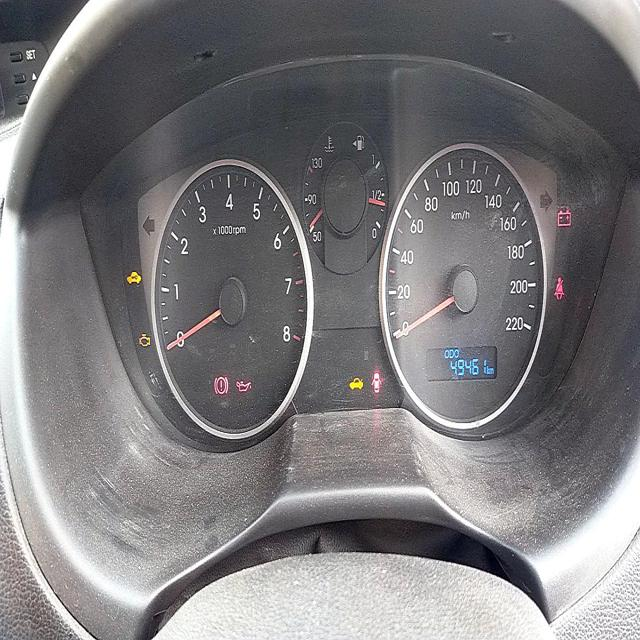odometer: (449, 357, 487, 379)
